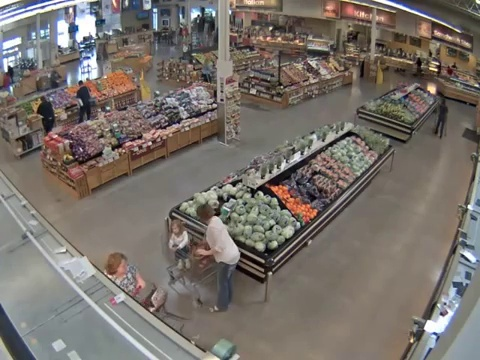face: (115, 260, 128, 275), (171, 224, 181, 236)
